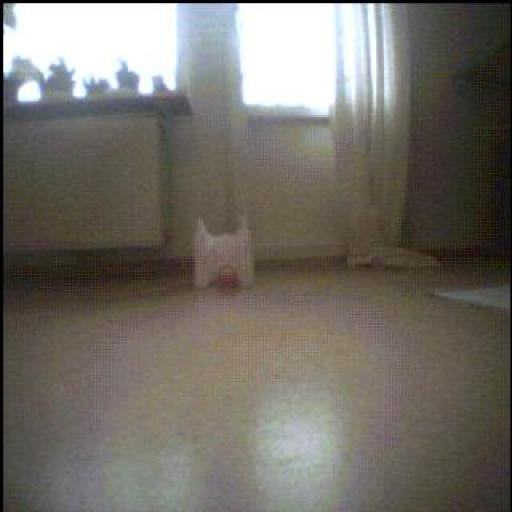Basket: (218, 262, 242, 288)
